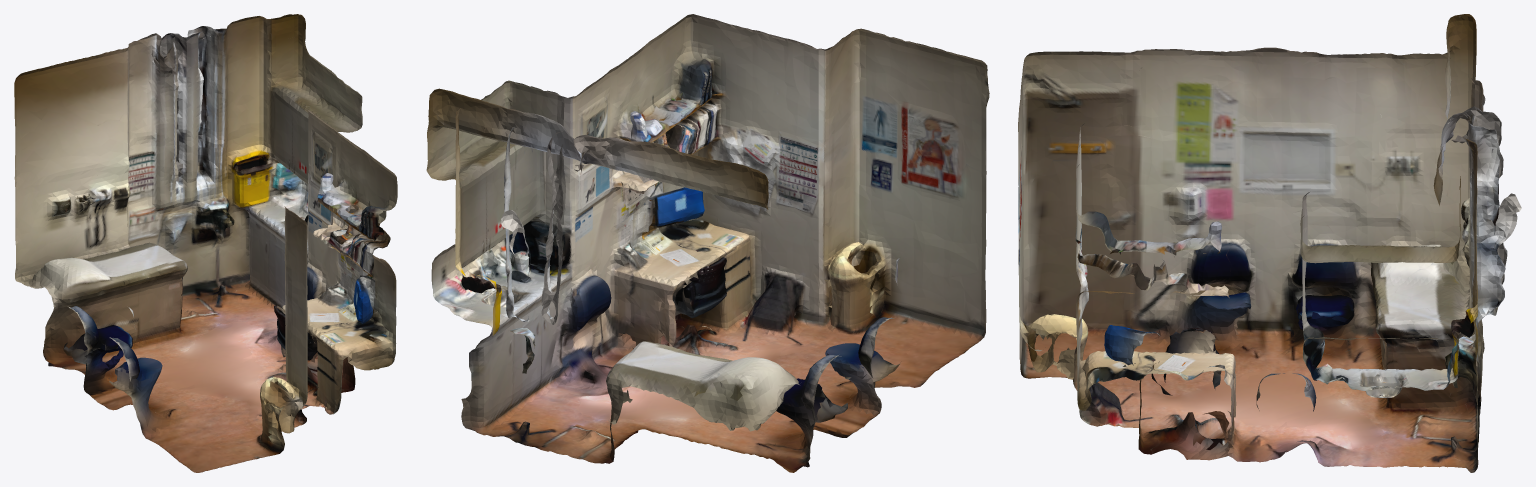
The model's file is room.glb.
3 views of the same model, side by side, from view 1: azimuth 30°, elevation 25°; view 2: azimuth 150°, elevation 25°; view 3: azimuth 270°, elevation 25° (orthographic). The views are drawn at different scales.
Size of the model in its own units: 3.35 by 3.02 by 4.18.
1 material, 1 textured.
